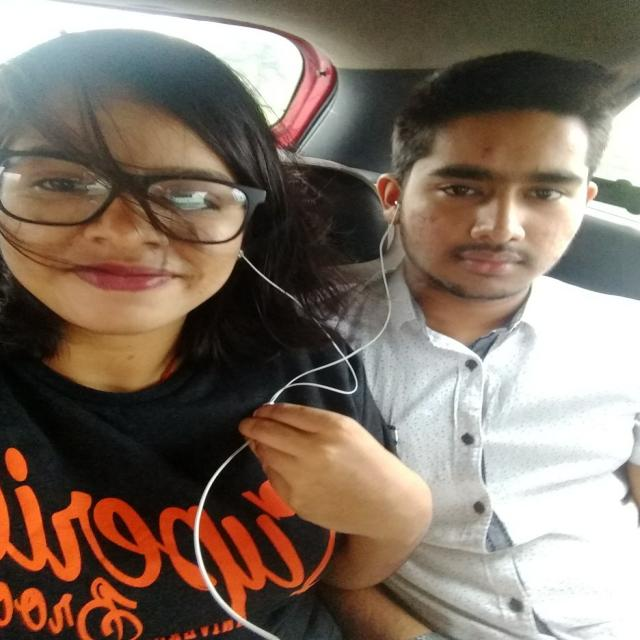Glasses: (0, 145, 278, 249)
